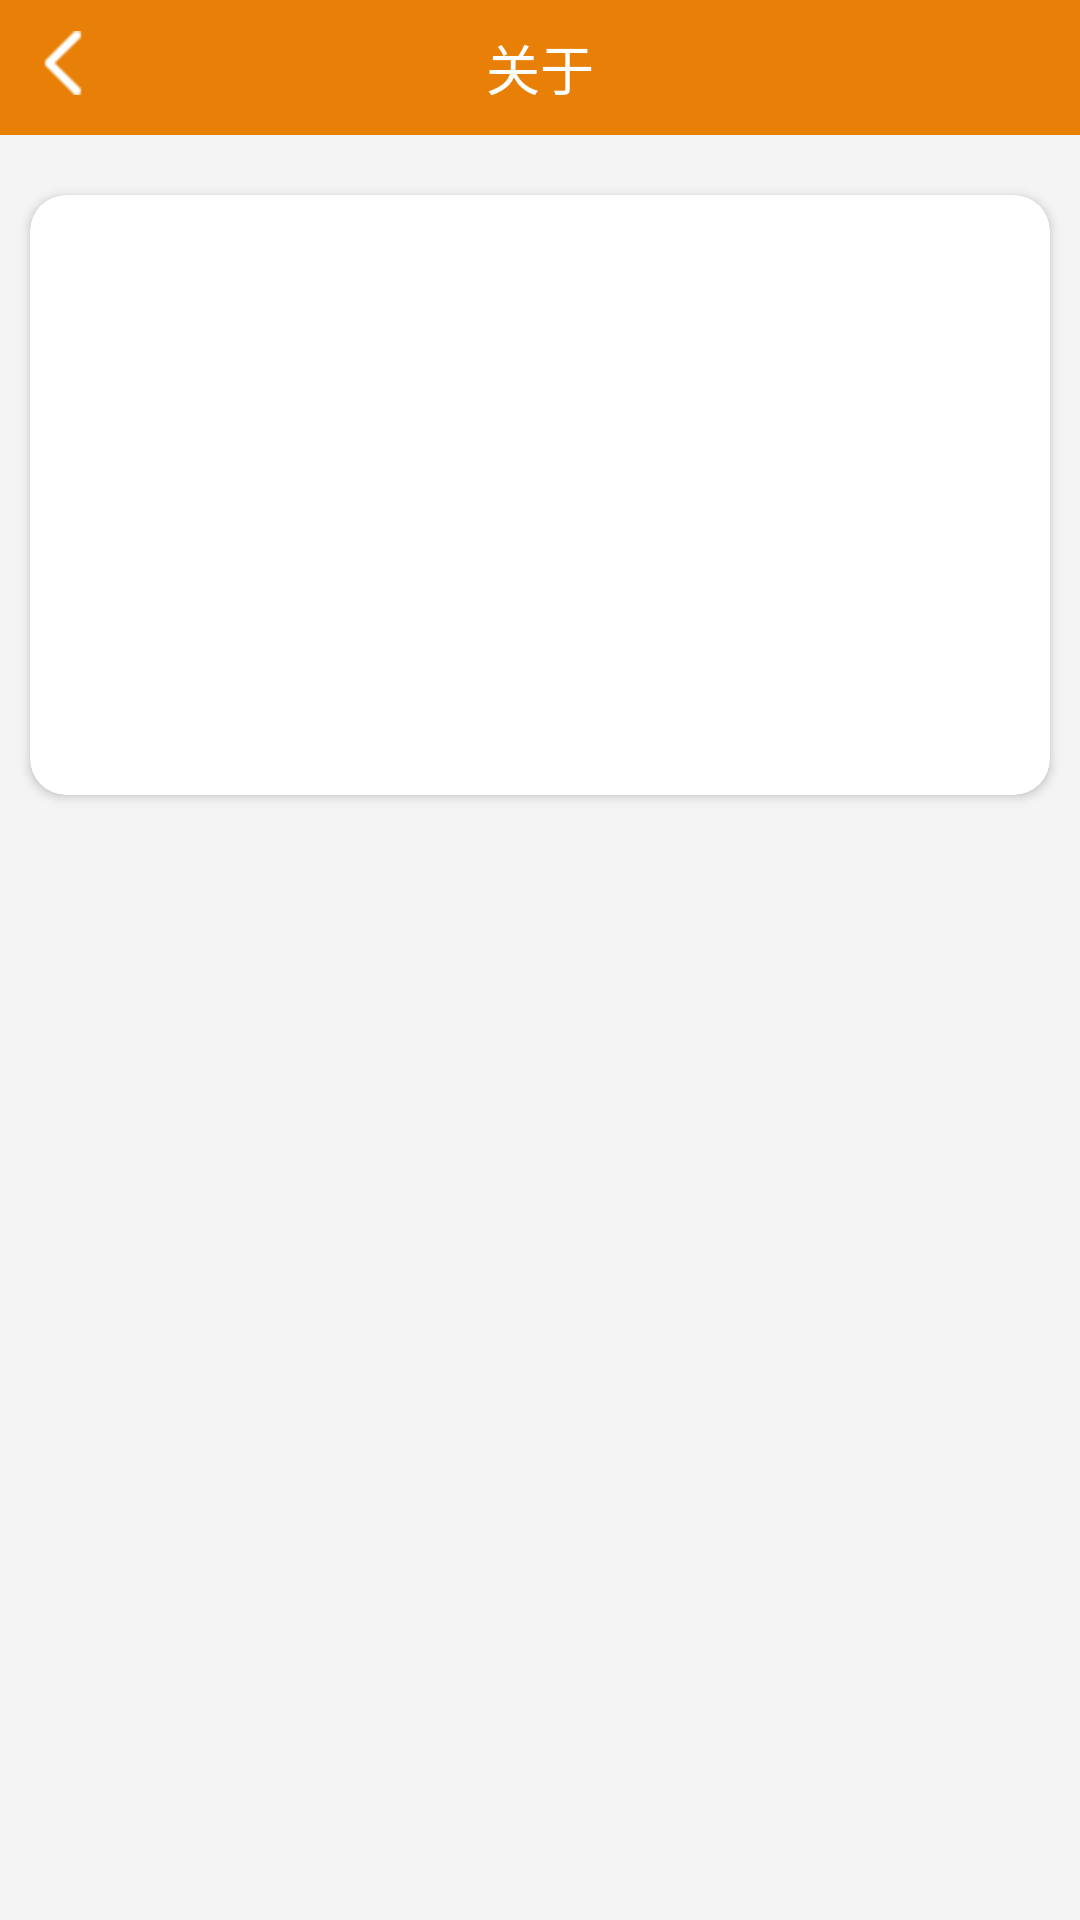

Point at icon controls on the screen. Image size 1080×1920, points as (x,y).
back: (63,63)
